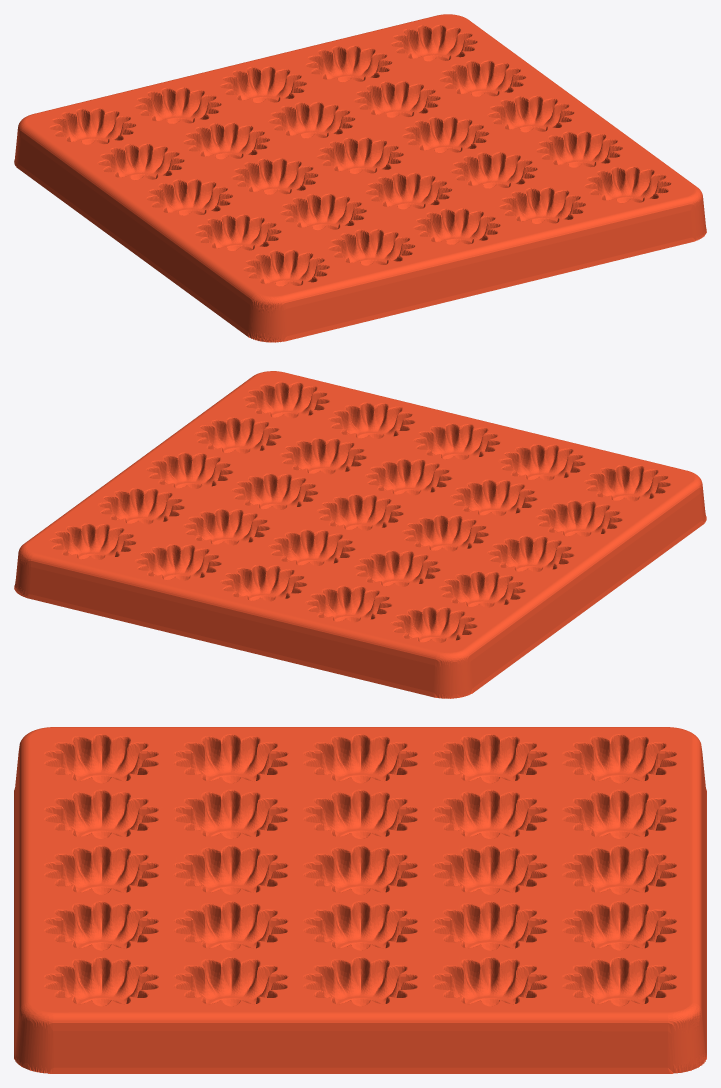
Rendered from mold.glb.
3 views of the same model, one above another, from view 1: azimuth 30°, elevation 25°; view 2: azimuth 150°, elevation 25°; view 3: azimuth 270°, elevation 25° (orthographic). The views are drawn at different scales.
Visible parts, largest first — view 1: geometry_0; view 2: geometry_0; view 3: geometry_0.
Boxes of the visible parts, x1,y1,x2,y2 form: geometry_0: [14, 14, 706, 342]; geometry_0: [14, 371, 706, 698]; geometry_0: [14, 727, 706, 1073].
Bounding box in the file's own units: 0.1584 × 0.0136 × 0.1558.
